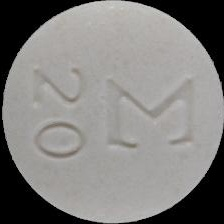51655-122: (0, 0, 224, 224)
